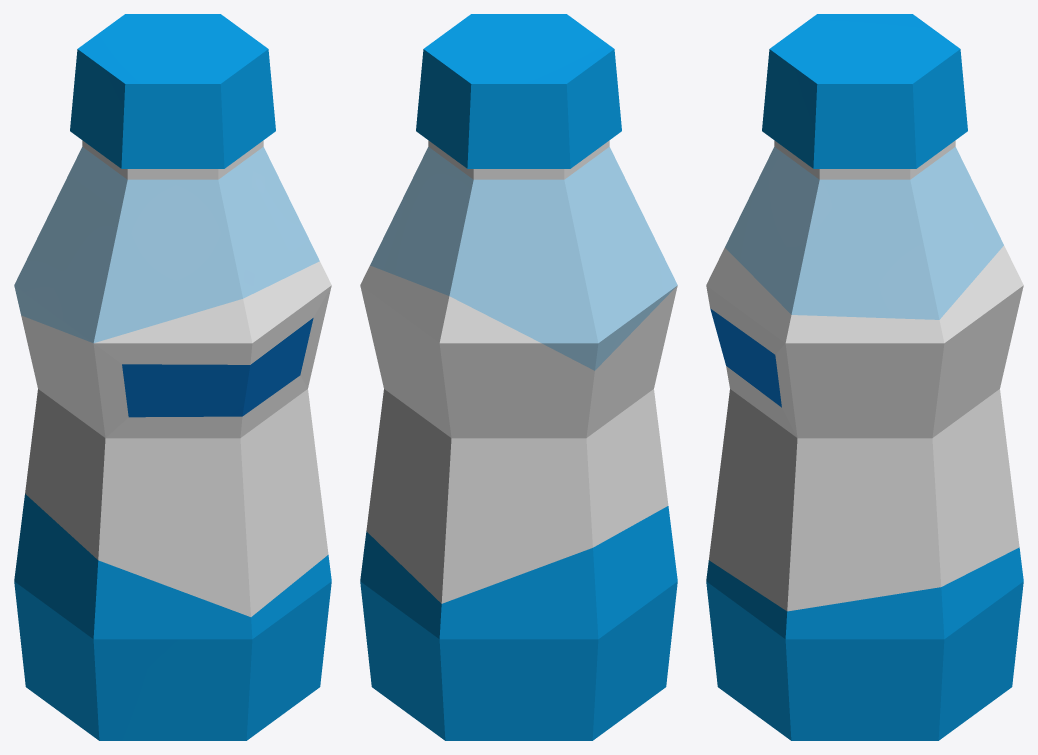
File: yogurt_001.glb
3 renders of one model, left to right at view 1: azimuth 30°, elevation 25°; view 2: azimuth 150°, elevation 25°; view 3: azimuth 270°, elevation 25°, orthographic.
Parts seen in each view (by area): view 1: yogurt_001; view 2: yogurt_001; view 3: yogurt_001.
Part boxes in pixels (x1,y1,x2,y2): yogurt_001: [14, 14, 331, 740]; yogurt_001: [360, 14, 677, 740]; yogurt_001: [706, 14, 1023, 740].
Bounding box in the file's own units: 0.0427 × 0.1094 × 0.0493.
Materials: 1 (1 with a texture image).
